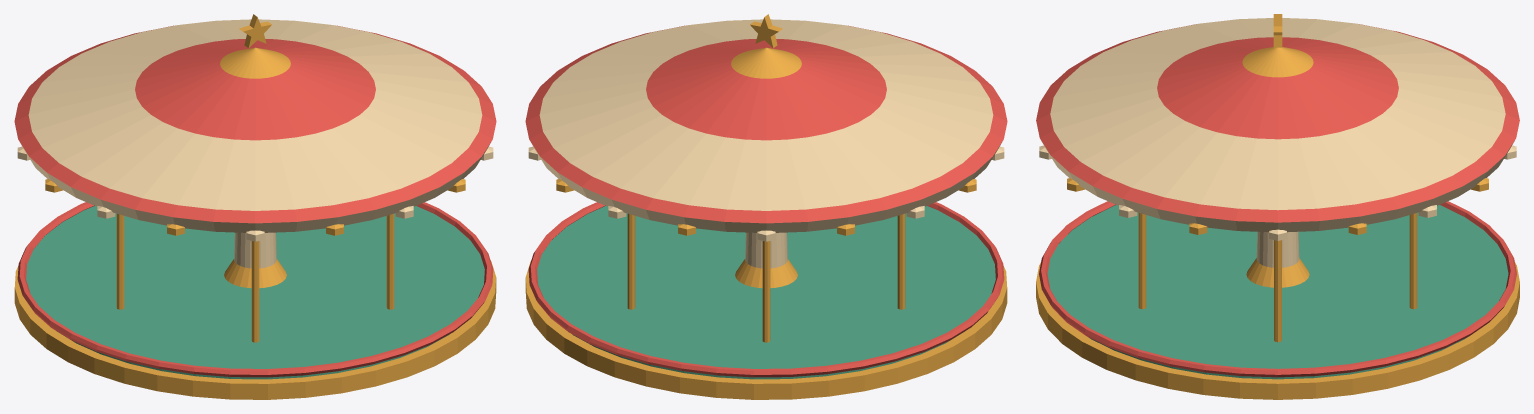
Rendered from ParkParkBunnyHub.obj.
The picture shows the model from 3 angles, left to right: view 1: azimuth 30°, elevation 25°; view 2: azimuth 150°, elevation 25°; view 3: azimuth 270°, elevation 25°; orthographic projection.
Parts seen in each view (by area): view 1: ParkParkBunnyHub; view 2: ParkParkBunnyHub; view 3: ParkParkBunnyHub.
Part boxes in pixels (x1,y1,x2,y2): ParkParkBunnyHub: (14, 14, 496, 399); ParkParkBunnyHub: (525, 14, 1007, 399); ParkParkBunnyHub: (1036, 14, 1519, 399).
Bounding box in the file's own units: 13.69 × 8.8 × 13.6.
